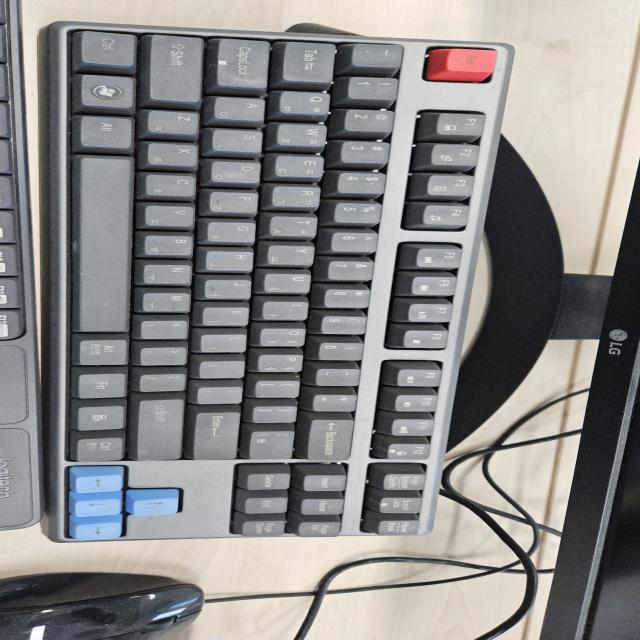Keyboard: (12, 16, 515, 542)
Mouse: (1, 570, 206, 638)
